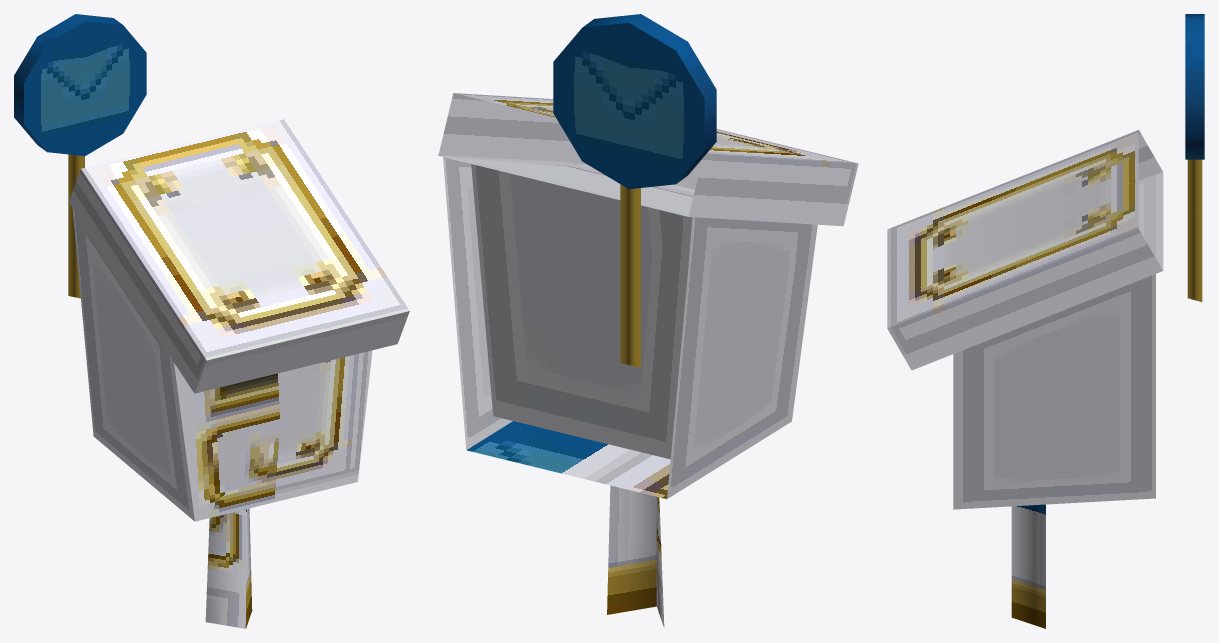
Rendered from int_post_F02.dae.
3 renders of one model, left to right at view 1: azimuth 30°, elevation 25°; view 2: azimuth 150°, elevation 25°; view 3: azimuth 270°, elevation 25°, orthographic. The views are drawn at different scales.
Visible parts, largest first — view 1: int_post_F02; view 2: int_post_F02; view 3: int_post_F02.
Boxes of the visible parts, box(x1,y1,x2,y2) form: int_post_F02: box(14, 14, 409, 628); int_post_F02: box(438, 14, 858, 627); int_post_F02: box(887, 14, 1204, 628).
Bounding box in the file's own units: 20.17 × 45.75 × 23.41.
1 material, 1 textured.
